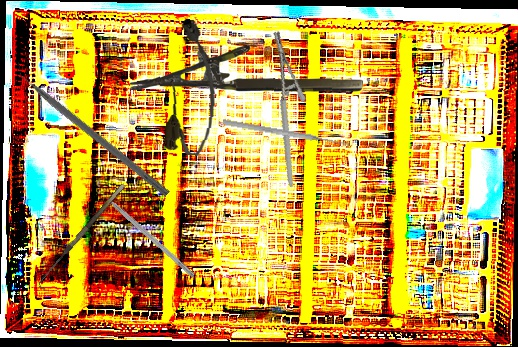Cannula: (163, 18, 222, 157)
Chopper: (10, 57, 177, 198), (95, 182, 201, 278)
Hook Surgical: (35, 183, 131, 291)
Needle Holder: (237, 29, 329, 188), (128, 43, 364, 95)
Pusher: (222, 118, 348, 148)
